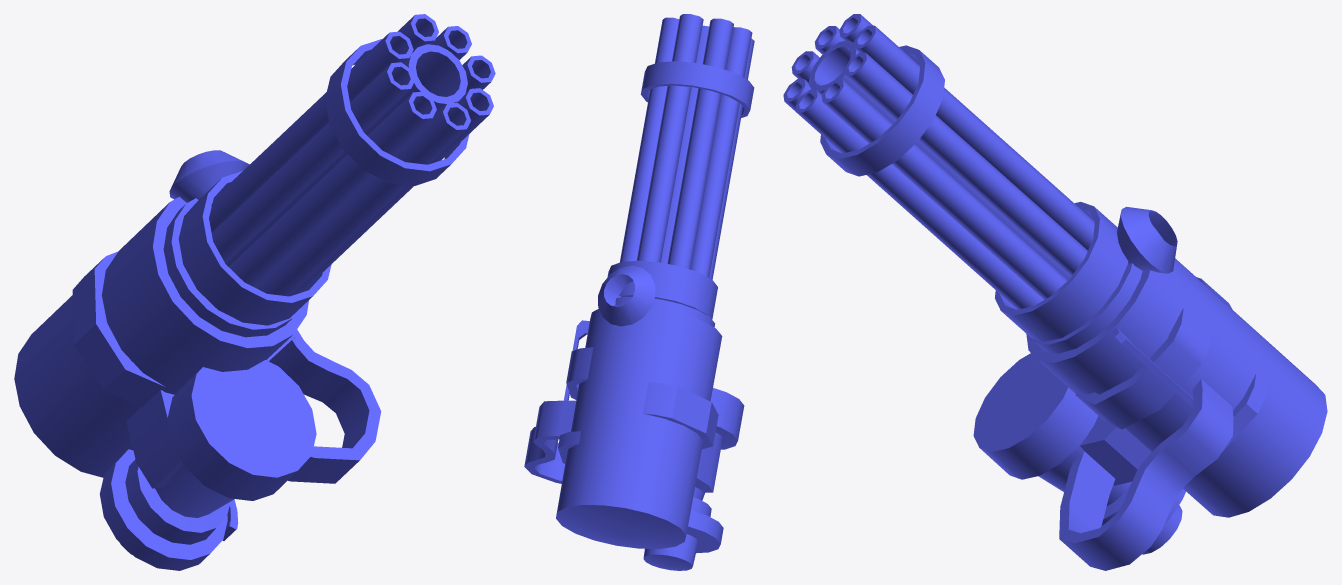
The model's file is Robert01@Robert01_weapon02.FBX.
3 renders of one model, left to right at view 1: azimuth 30°, elevation 25°; view 2: azimuth 150°, elevation 25°; view 3: azimuth 270°, elevation 25°, orthographic. The views are drawn at different scales.
Parts seen in each view (by area): view 1: body03; view 2: body03; view 3: body03.
Part boxes in pixels (x1,y1,x2,y2): body03: (14,14,495,570); body03: (524,14,754,570); body03: (783,14,1327,570).
Bounding box in the file's own units: 8.24 × 17.63 × 15.04.
